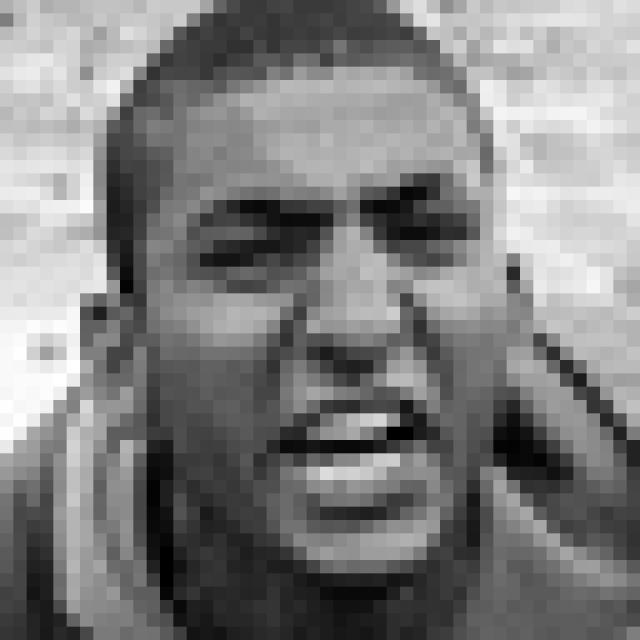angry: (180, 158, 486, 535)
